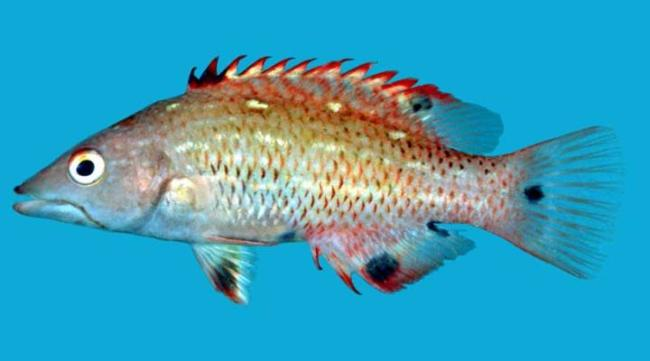fish: (13, 55, 623, 307)
